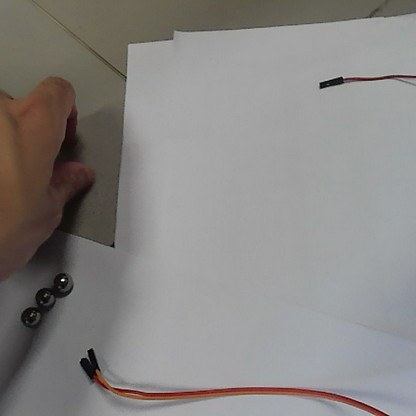ironball: (19, 303, 43, 329), (33, 287, 58, 311), (51, 272, 72, 294)
